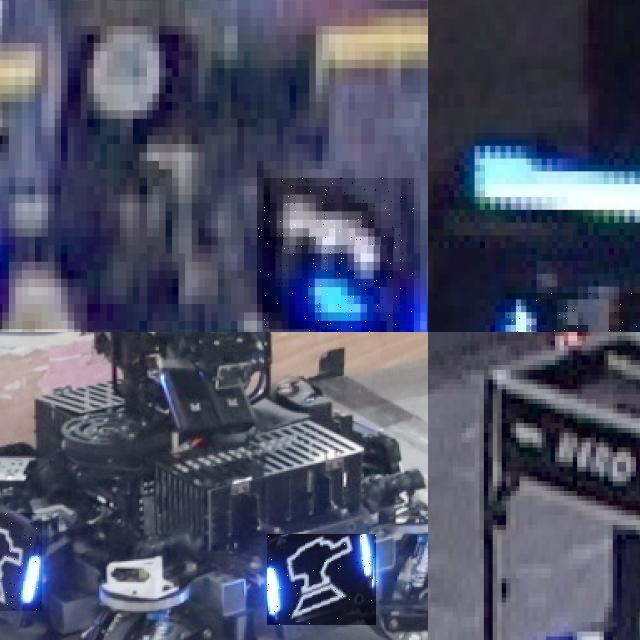B1: (505, 293, 640, 332)
B3: (257, 177, 413, 332)
Bs: (268, 534, 378, 625), (0, 513, 42, 611)
